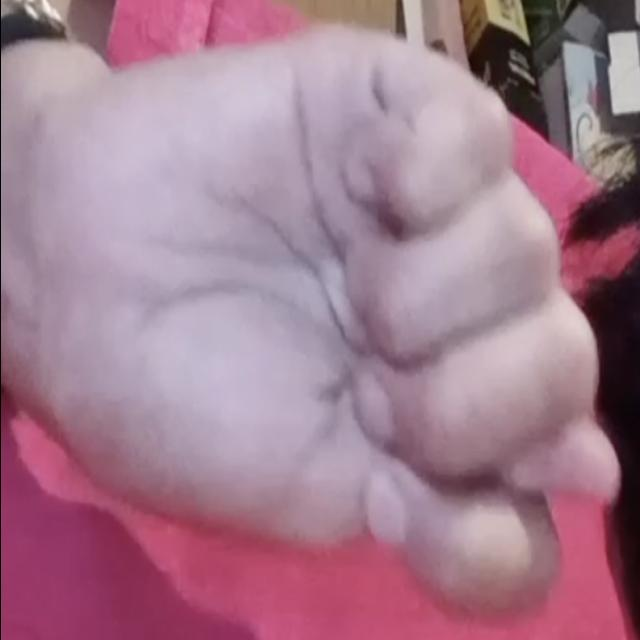T: (40, 19, 628, 628)
